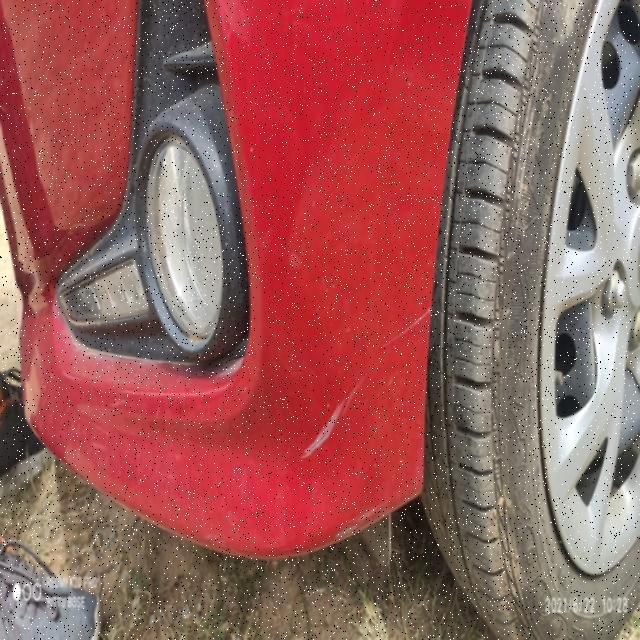front-bumper-dent: (119, 117, 446, 570)
